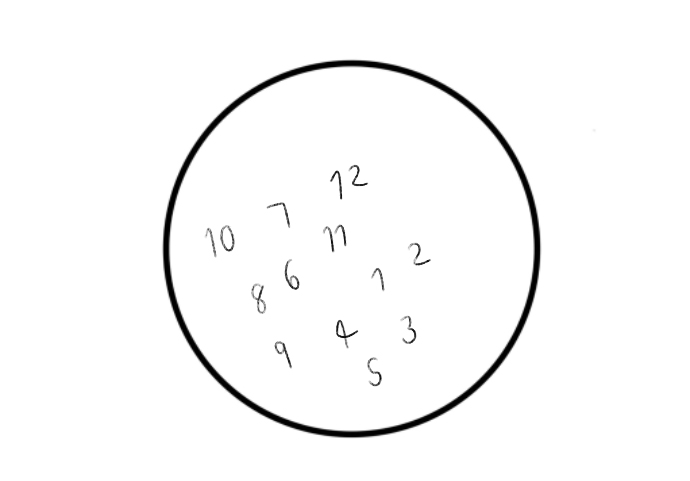eight: (248, 280, 268, 316)
eleven: (320, 222, 350, 254)
five: (365, 353, 384, 388)
four: (334, 316, 360, 350)
nine: (272, 337, 296, 373)
one: (370, 266, 388, 297)
seven: (264, 201, 296, 234)
six: (283, 251, 300, 293)
ten: (200, 223, 237, 259)
three: (399, 313, 419, 346)
twelve: (329, 162, 367, 201)
two: (407, 237, 434, 269)
